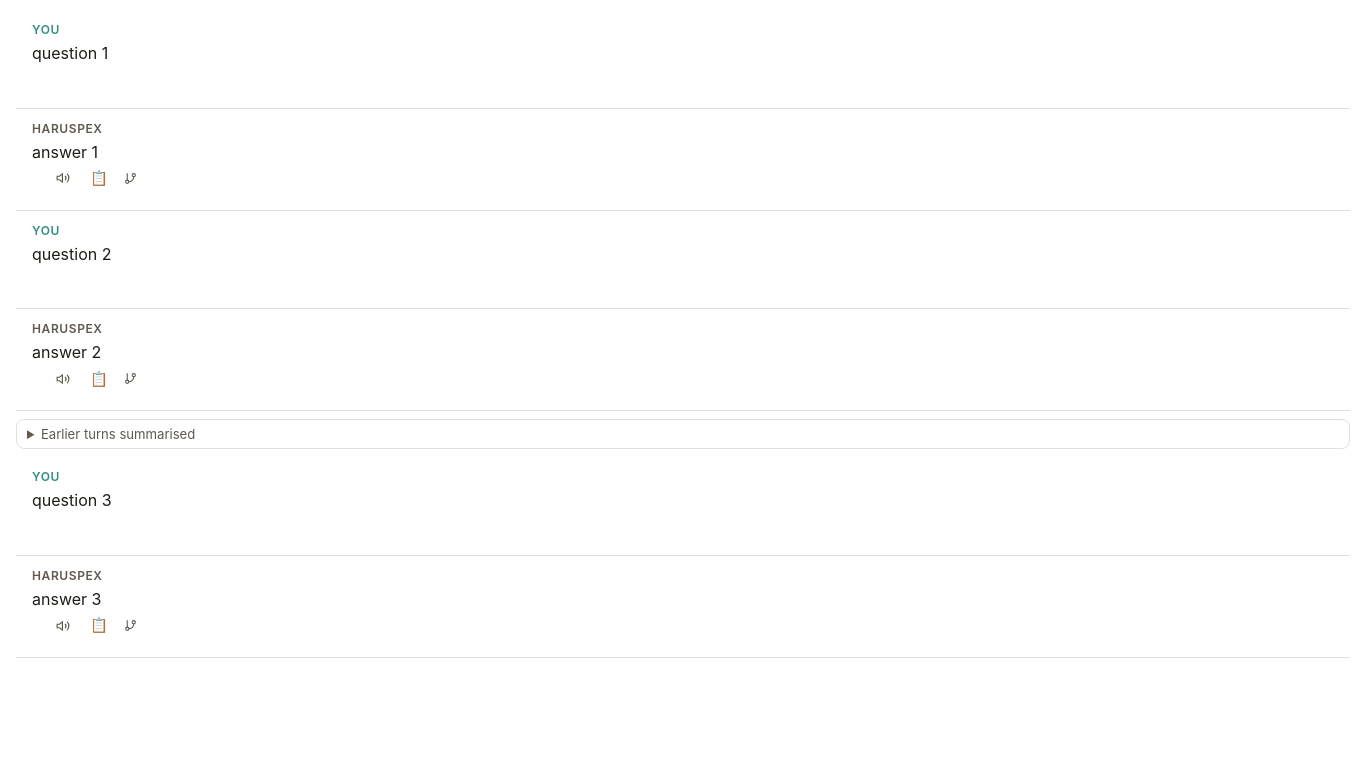
Test: CodeTranscript compaction › marks where the summary ends and opens it
Click the heading "Earlier turns summarised": (118, 434) left=41, top=426, right=195, bottom=442
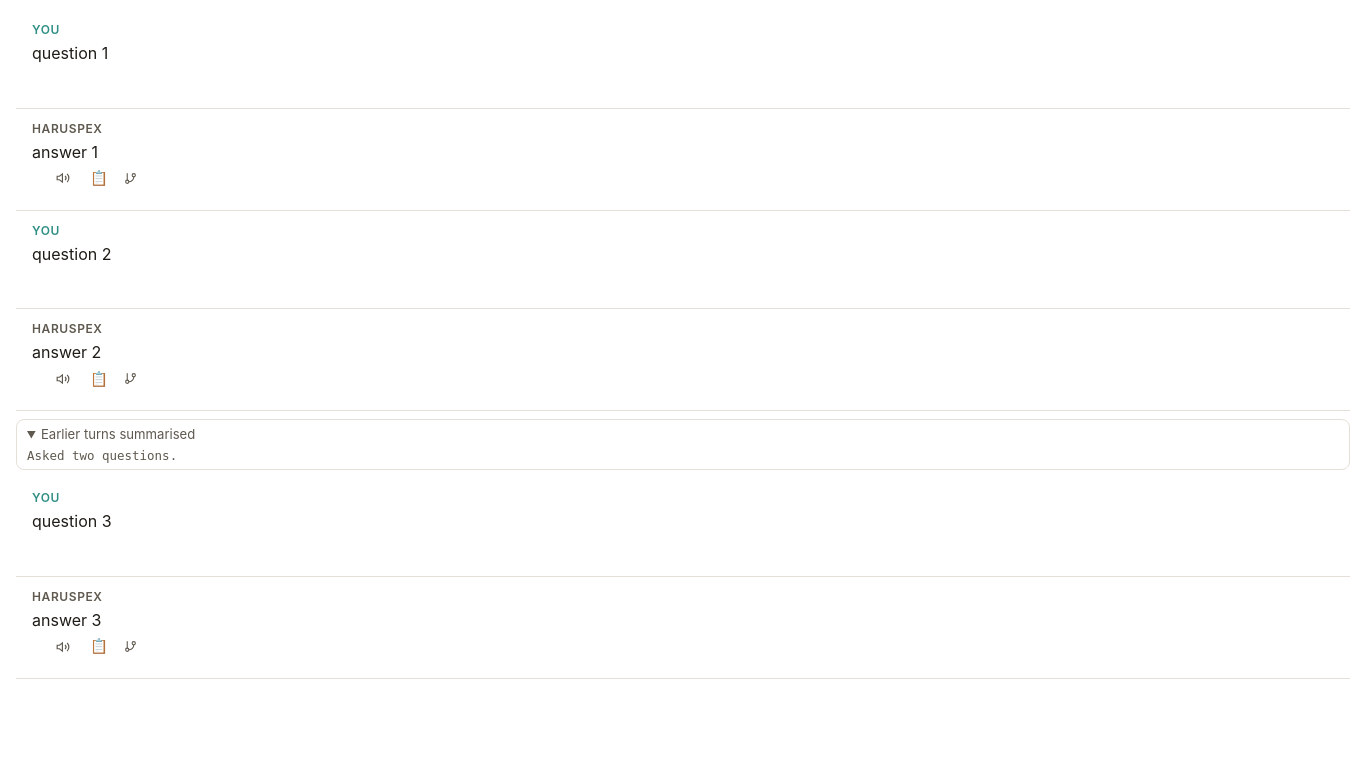
Check: the text "question 1" is shown, box left=32, top=43, right=108, bottom=63
Check: the element with test id "compaction" shows "Asked two questions.", box left=27, top=448, right=177, bottom=463
